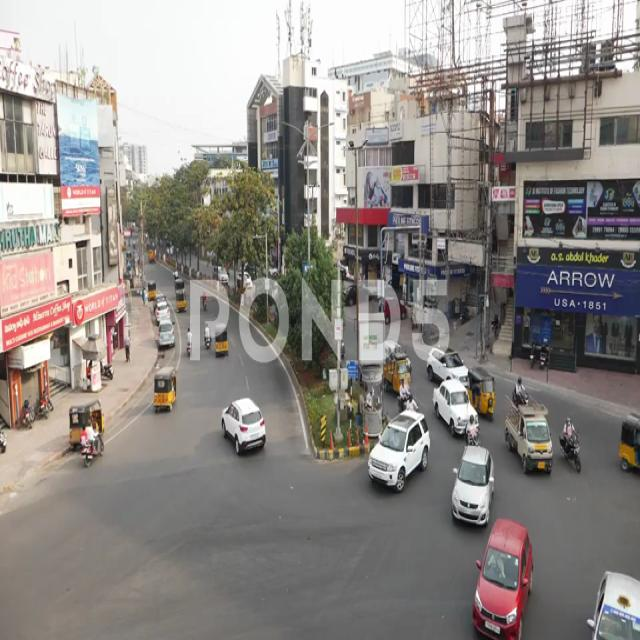cab: (433, 383, 477, 430)
car: (474, 533, 530, 640), (368, 410, 430, 490), (451, 454, 494, 530), (223, 396, 269, 457)
motorbike: (559, 415, 587, 477)
rikshaw: (480, 371, 500, 421)
truck: (506, 381, 553, 478)
